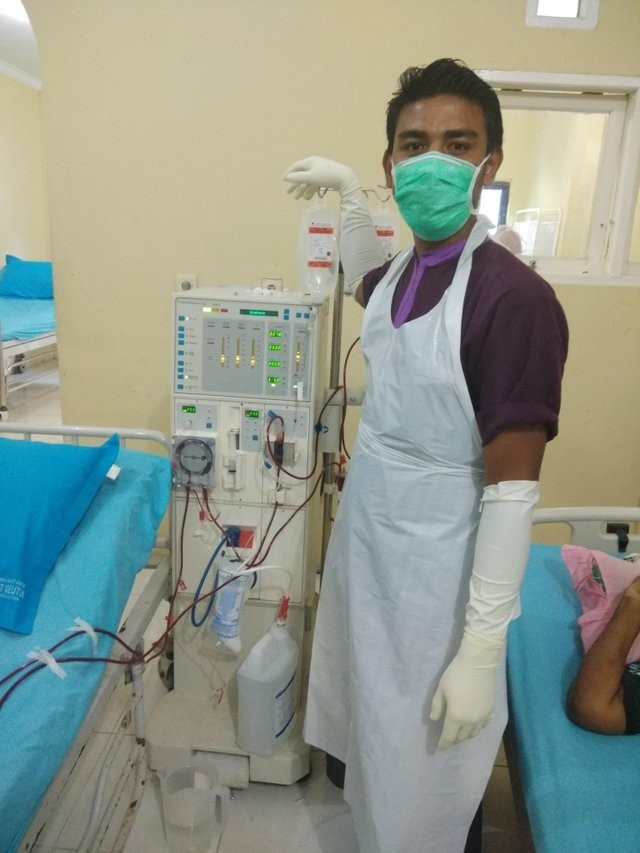face_with_mask: (364, 75, 504, 263)
